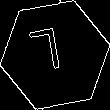L_S: (36, 27, 74, 83)
